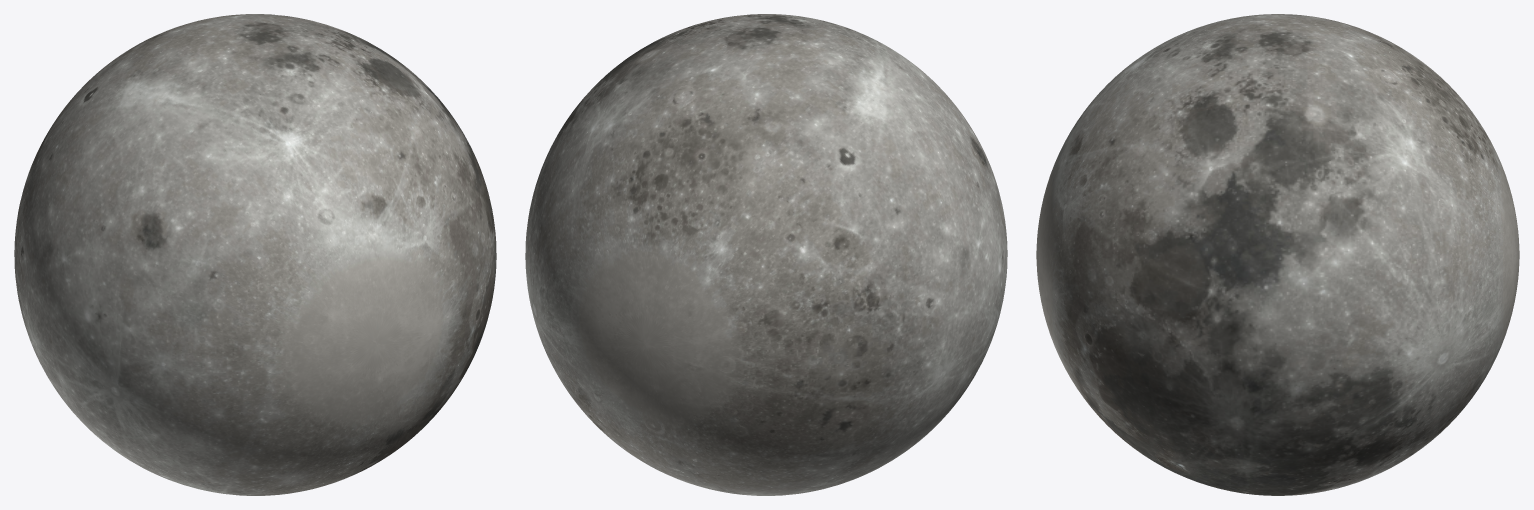
File: moonpluspetite.glb
The picture shows the model from 3 angles, left to right: view 1: azimuth 30°, elevation 25°; view 2: azimuth 150°, elevation 25°; view 3: azimuth 270°, elevation 25°; orthographic projection.
Visible parts, largest first — view 1: Sphere; view 2: Sphere; view 3: Sphere.
Boxes of the visible parts, x1=… form: Sphere: x1=14, y1=14, x2=496, y2=495; Sphere: x1=525, y1=14, x2=1007, y2=495; Sphere: x1=1036, y1=14, x2=1519, y2=495.
Size of the model in its own units: 1.99 by 1.99 by 2.
1 material, 1 textured.
